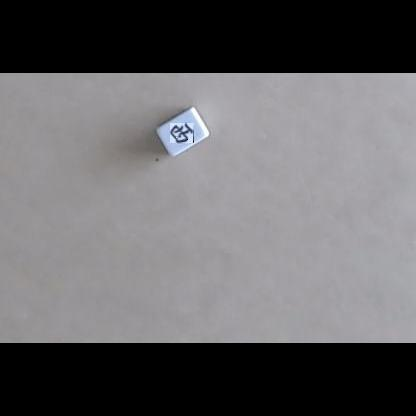3z: (170, 123, 194, 143)
